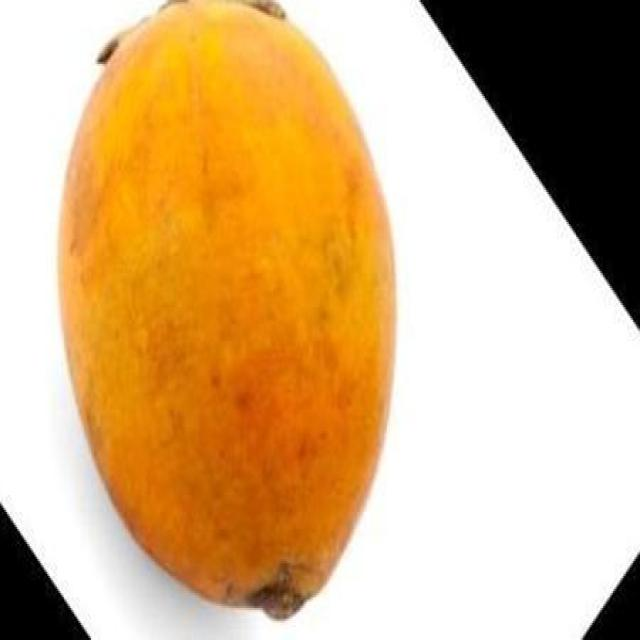good: (54, 0, 400, 623)
